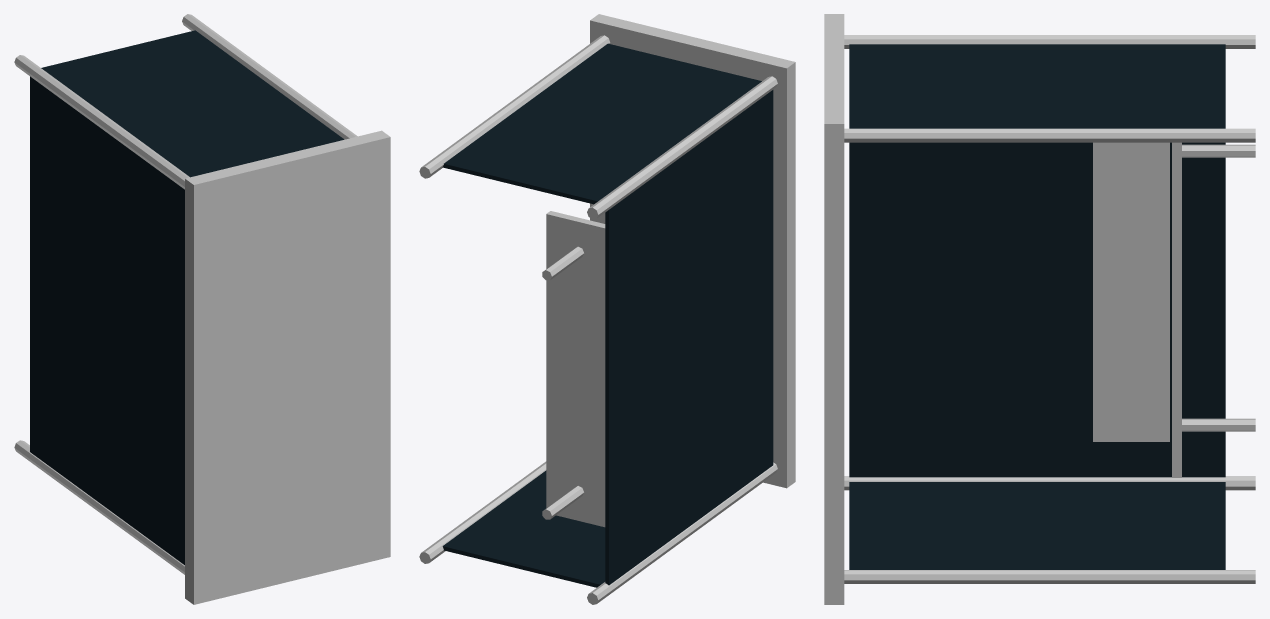
File: BusShelter.obj
3 views of the same model, side by side, from view 1: azimuth 30°, elevation 25°; view 2: azimuth 150°, elevation 25°; view 3: azimuth 270°, elevation 25° (orthographic). The views are drawn at different scales.
Visible parts, largest first — view 1: BusShelter; view 2: BusShelter; view 3: BusShelter.
Part boxes in pixels (bbox=[...]): BusShelter: bbox=[14, 14, 390, 604]; BusShelter: bbox=[419, 14, 795, 604]; BusShelter: bbox=[824, 14, 1255, 604].
Size of the model in its own units: 155 by 316 by 257.
